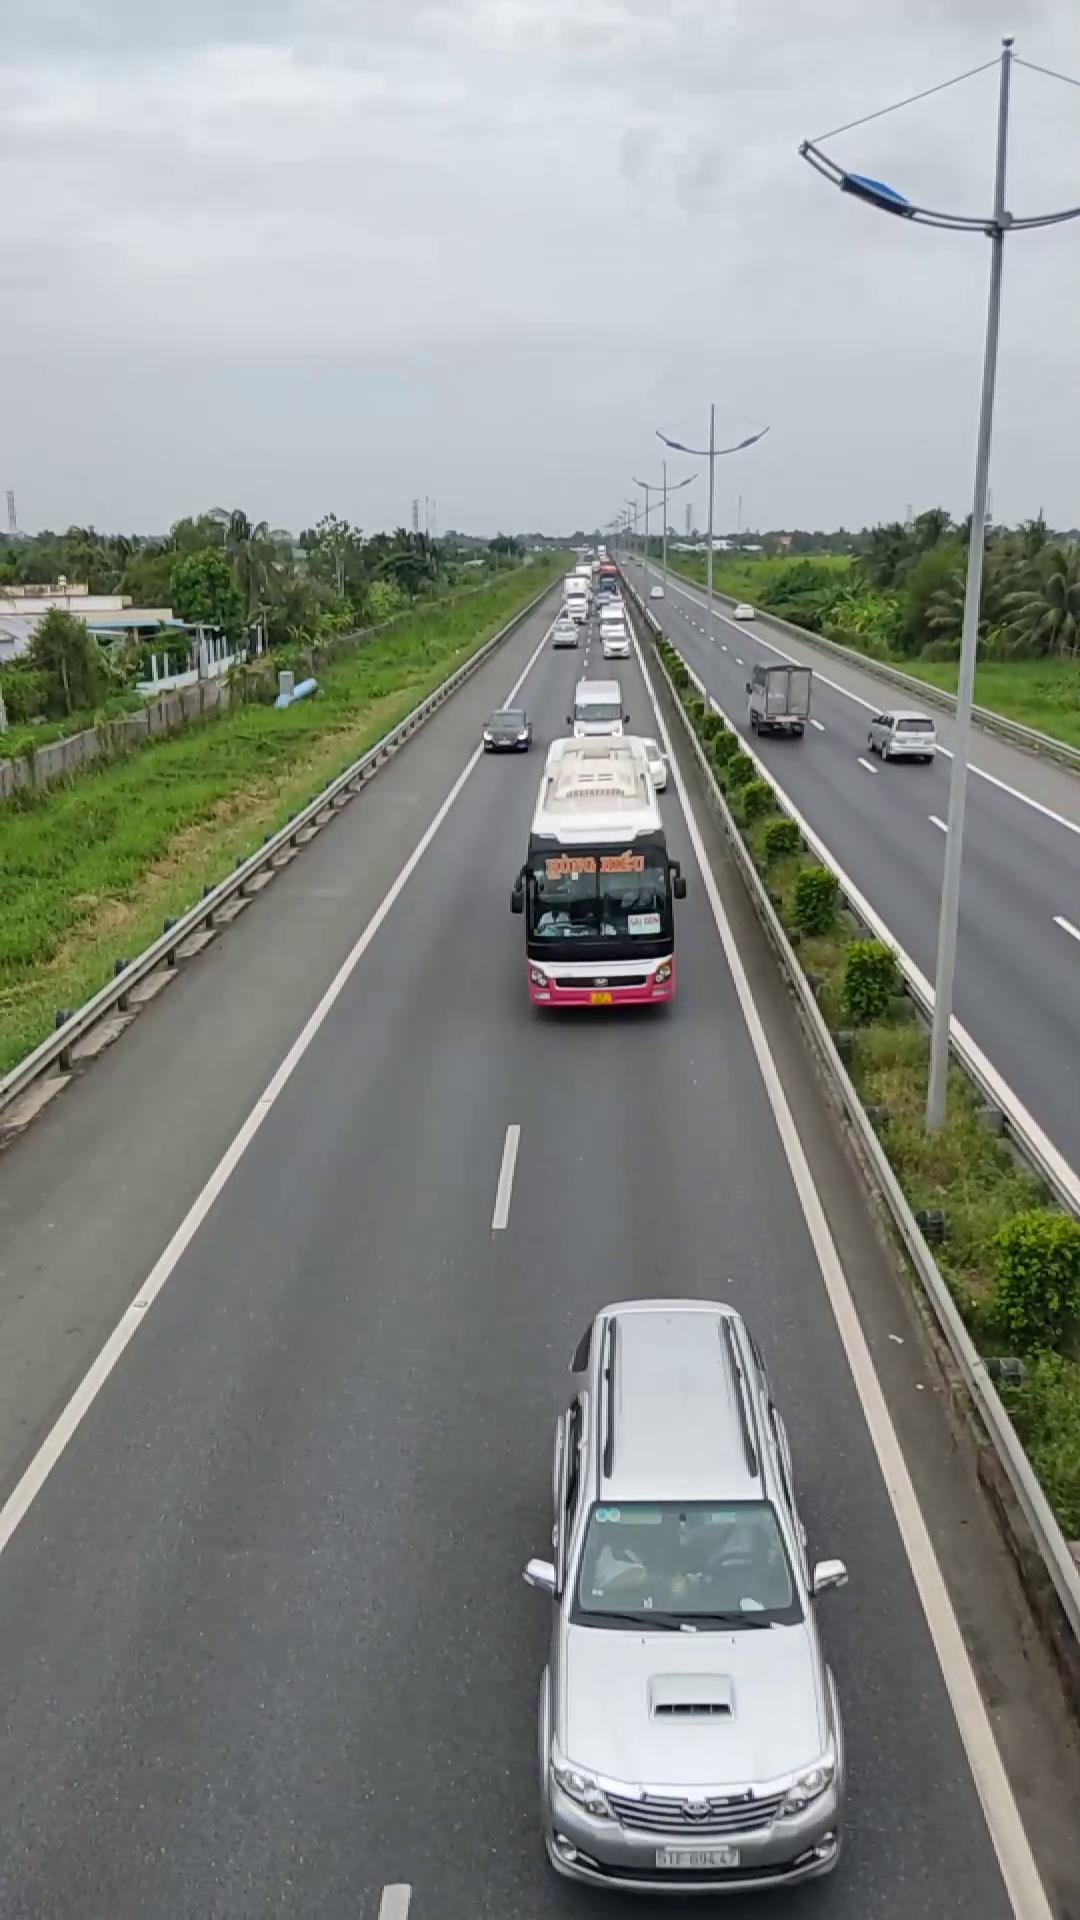bus: (512, 741, 683, 1013)
car: (527, 1292, 847, 1884), (862, 707, 938, 764)
truck: (745, 655, 814, 736)
